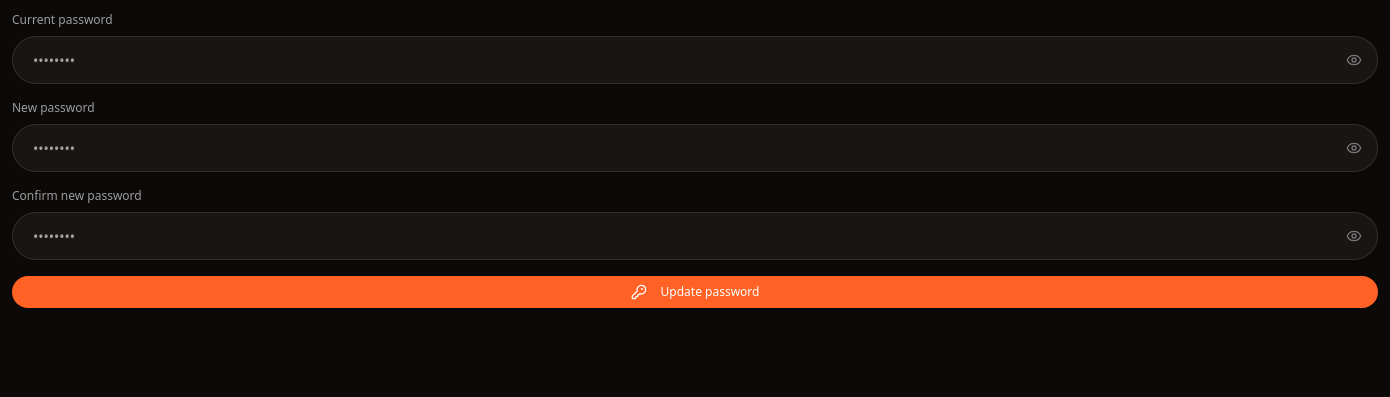
PasswordChangeForm submission › shows validation errors when all fields are empty on submit
Step 1. Click the button "Update password" → click(695, 292), box [12,276,1378,308]
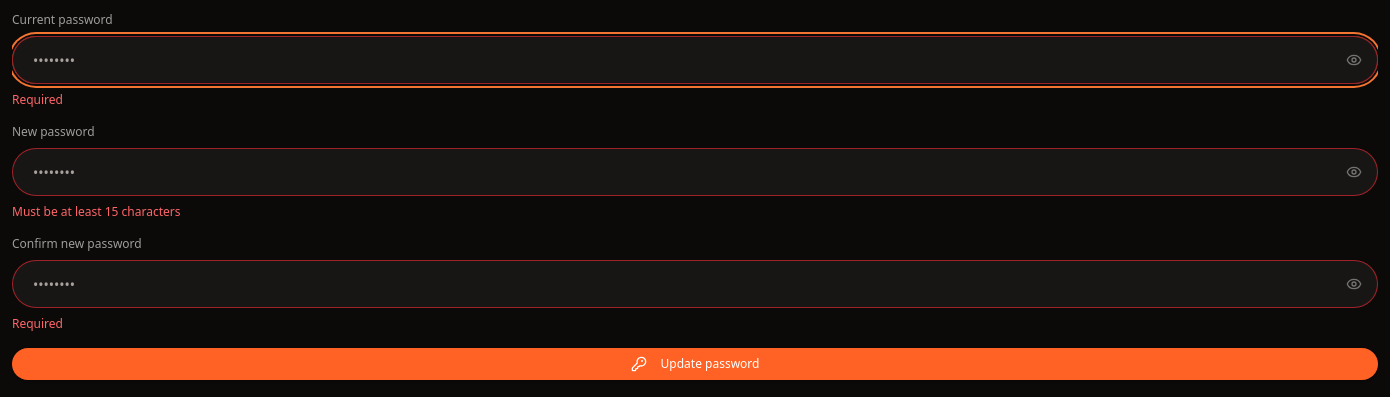
Now the text "Required" below "Current password" is shown, box [12,91,63,108]
